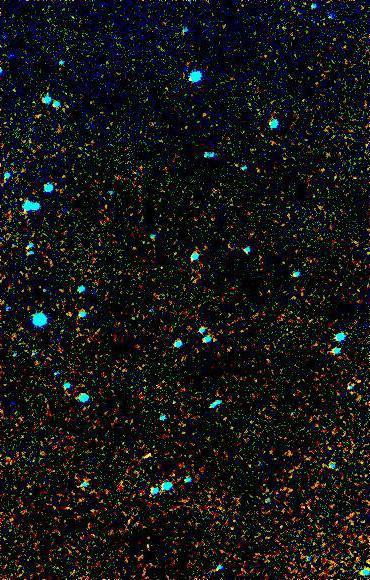star: (133, 437, 163, 467)
